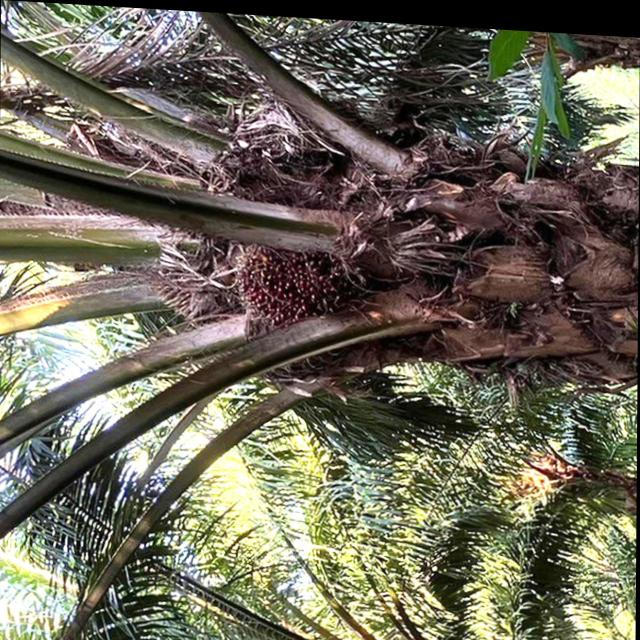ripe: (228, 228, 352, 336)
